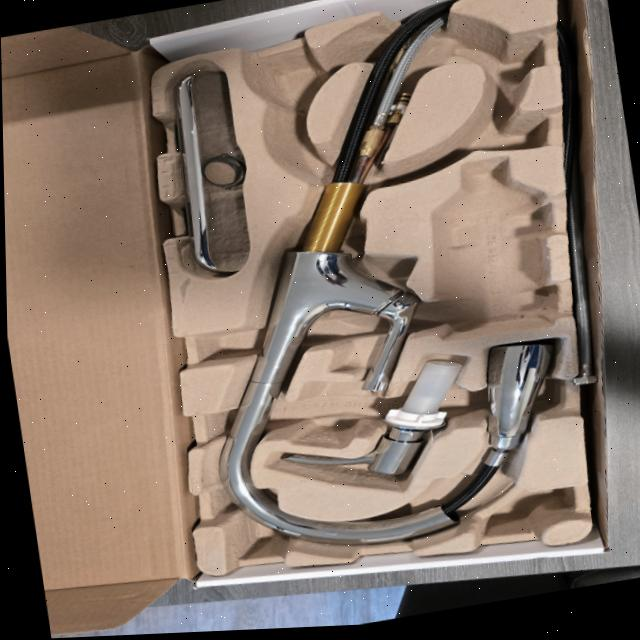1: (216, 0, 553, 545)
2: (280, 359, 465, 475)
3m: (431, 156, 553, 339)
4: (177, 70, 250, 274)
5m: (265, 60, 329, 106)
6m: (451, 28, 545, 92)
7m: (435, 102, 551, 159)
